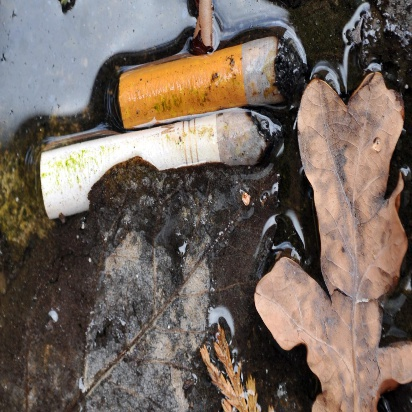cigarette: (34, 107, 306, 220), (112, 35, 314, 129)
